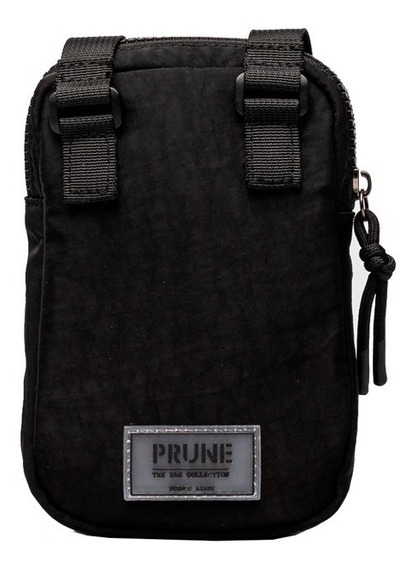cartera: (21, 26, 394, 542)
